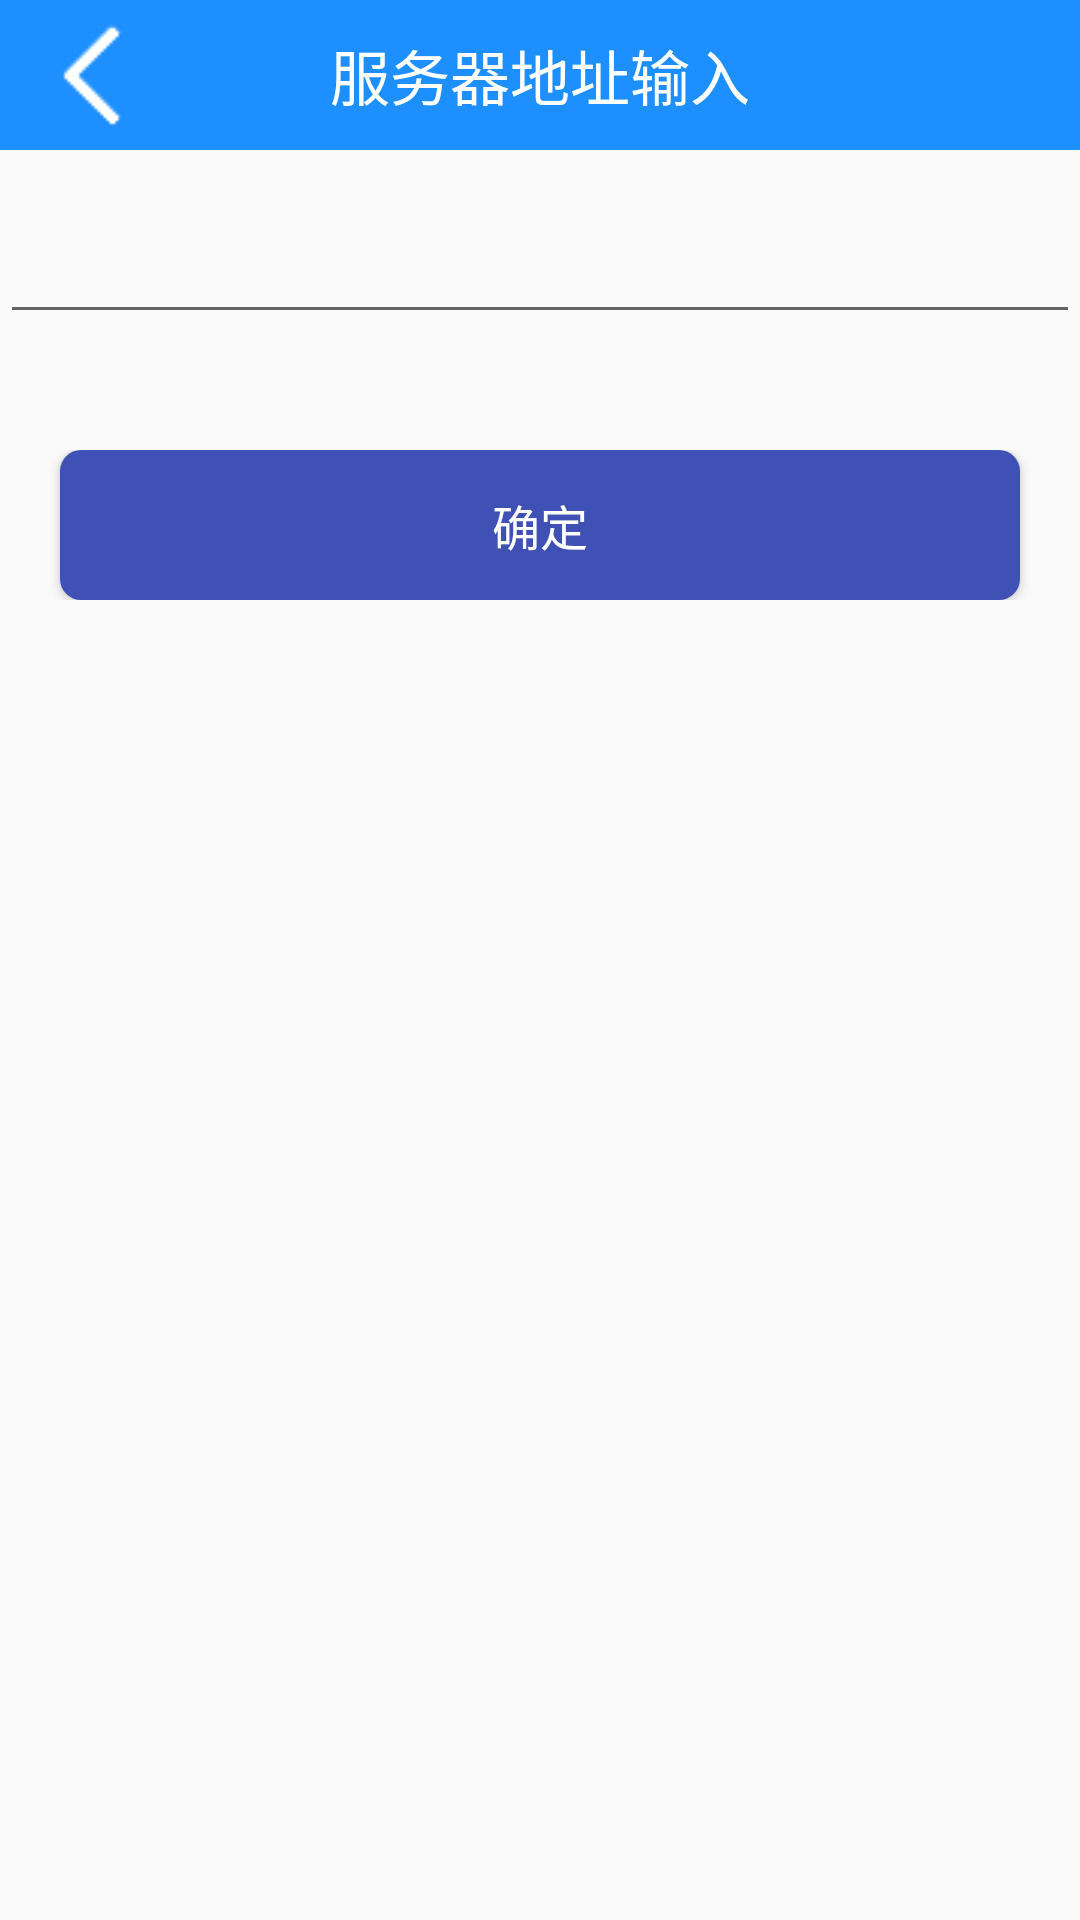

Locate icon controls on the screen. Image size 1080*1920, boxes as (x1, y1, x2, y2).
back: (63, 26, 121, 125)
